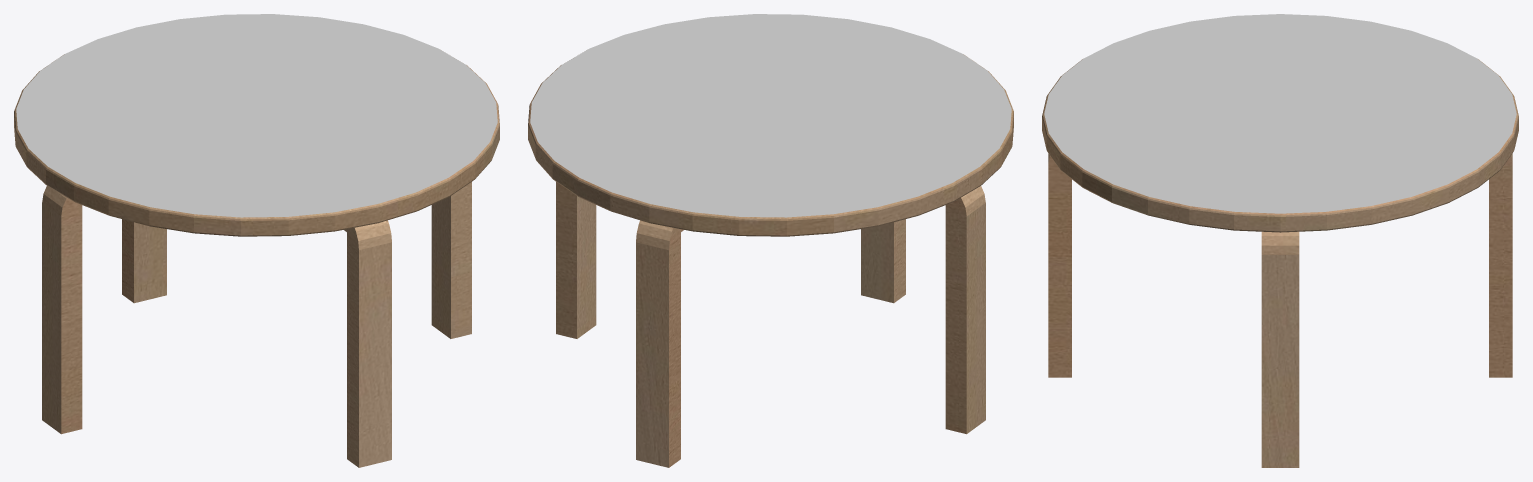
Rendered from RoundTableMk2.fbx.
3 views of the same model, side by side, from view 1: azimuth 30°, elevation 25°; view 2: azimuth 150°, elevation 25°; view 3: azimuth 270°, elevation 25° (orthographic). The views are drawn at different scales.
Visible parts, largest first — view 1: RoundTableMk2; view 2: RoundTableMk2; view 3: RoundTableMk2.
Boxes of the visible parts, x1=… form: RoundTableMk2: x1=14, y1=14, x2=499, y2=467; RoundTableMk2: x1=528, y1=14, x2=1013, y2=467; RoundTableMk2: x1=1042, y1=14, x2=1518, y2=467.
Size of the model in its own units: 200 by 118 by 200.
